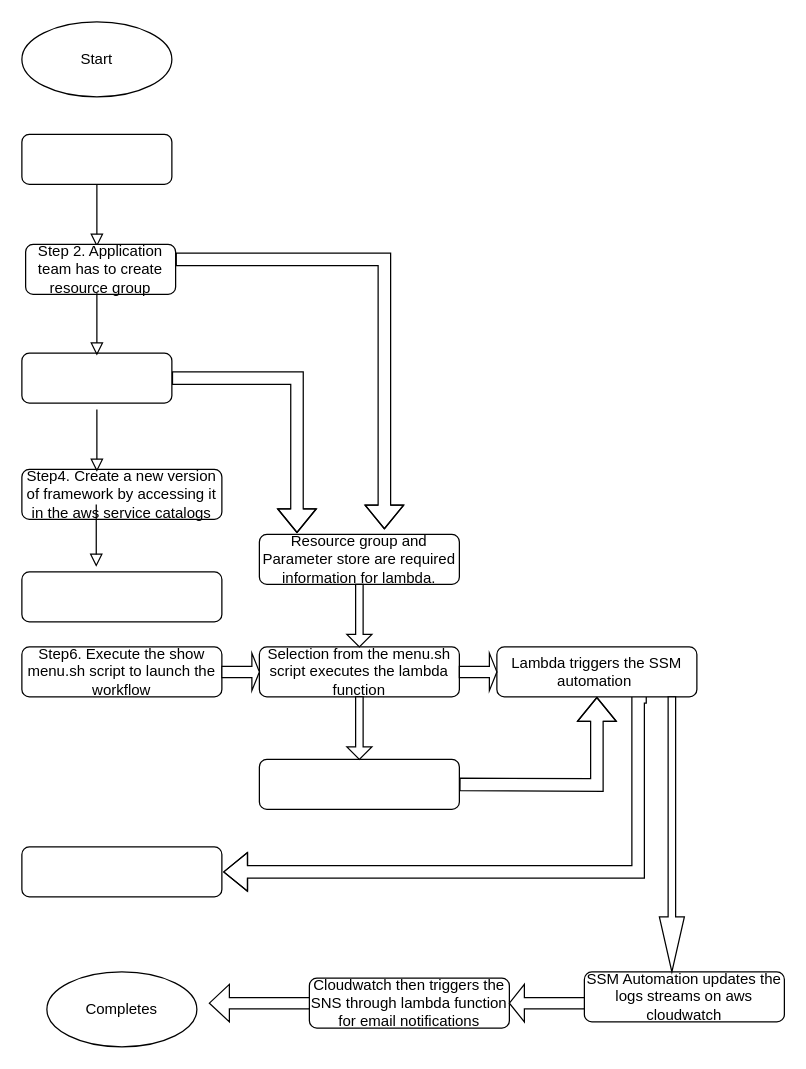
This 806x1069 diagram has some shape labels left out. Each missing label, with the box of its shape:
Automation completes the script/playbook execution on target ec2 instance: (21, 846, 222, 897)
Based on the parameters received, lambda updates the SSM documents: (258, 758, 459, 809)
Step 1. Ensure required artifacts in place in S3 bucket: (21, 133, 172, 184)
Step 3. Application team has to create parameter store: (21, 352, 172, 403)
Step5. Create the menu-options file on ec2 instance: (21, 571, 222, 622)
